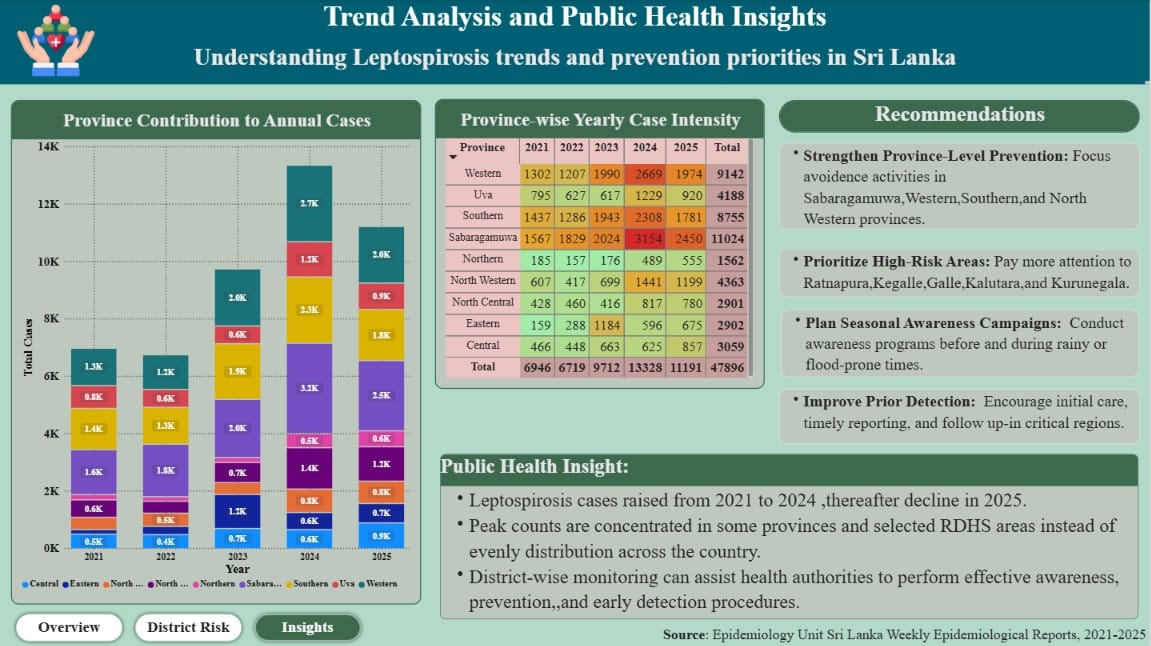

Layout of this report page (visuals, bound fields, positions):
{"tool":"powerbi","page":{"name":"Insights","canvas":[1920,1080],"ordinal":2},"visuals":[{"type":"textbox","title":"Trend Analysis and Public Health Insights","box":[0,0,1920.1,141.2],"z":0},{"type":"columnChart","title":"Province Contribution to Annual Cases","fields":{"Category":["Leptospirosis_Data.Year"],"Series":["Leptospirosis_Data.Province"],"Y":["Leptospirosis_Data.Total Cases"]},"box":[19.1,166.2,685,842.5],"z":1000},{"type":"pivotTable","title":"Province-wise Yearly Case Intensity","fields":{"Columns":["Leptospirosis_Data.Year"],"Rows":["Leptospirosis_Data.Province"],"Values":["Leptospirosis_Data.Total Cases"]},"box":[727.1,166,550,484],"z":2000},{"type":"textbox","title":"Strengthen Province-Level Prevention","box":[1300,238,602,144],"z":3000},{"type":"textbox","box":[18.6,972.9,364.4,72.9],"z":4000},{"type":"textbox","box":[976.3,803.4,228.8,78],"z":5000},{"type":"textbox","title":"Prioritize High-Risk Areas","box":[1300,416,602,80],"z":6000},{"type":"textbox","title":"Plan Seasonal Campaigns","box":[1304,518,598,112],"z":7000},{"type":"textbox","title":"Improve Prior Detection","box":[1300,650,602,92],"z":8000},{"type":"textbox","title":"Recommendations","box":[1300,166.7,602,54],"z":9000},{"type":"textbox","title":"Public Health Insight:","box":[734.7,758.2,1166.7,275.9],"z":10000},{"type":"image","box":[0,0,186.4,141.2],"z":11000},{"type":"textbox","box":[1087.6,1046,827,30.8],"z":12000},{"type":"pageNavigator","box":[19.9,1018.8,591.8,59.7],"z":13000}]}

Visuals, with their boxes in screenshot pixels (x1, y1, x2, y2), scaled from the page's 1920x1080 canvas onto the 1151x646 screenshot:
"Trend Analysis and Public Health Insights" textbox: rect(0, 0, 1150, 84)
"Province Contribution to Annual Cases" columnChart: rect(11, 99, 422, 603)
"Province-wise Yearly Case Intensity" pivotTable: rect(436, 99, 766, 389)
"Strengthen Province-Level Prevention" textbox: rect(779, 142, 1140, 228)
textbox: rect(11, 582, 230, 626)
textbox: rect(585, 481, 722, 527)
"Prioritize High-Risk Areas" textbox: rect(779, 249, 1140, 297)
"Plan Seasonal Campaigns" textbox: rect(782, 310, 1140, 377)
"Improve Prior Detection" textbox: rect(779, 389, 1140, 444)
"Recommendations" textbox: rect(779, 100, 1140, 132)
"Public Health Insight:" textbox: rect(440, 454, 1140, 619)
image: rect(0, 0, 112, 84)
textbox: rect(652, 626, 1148, 644)
pageNavigator: rect(12, 609, 367, 645)
